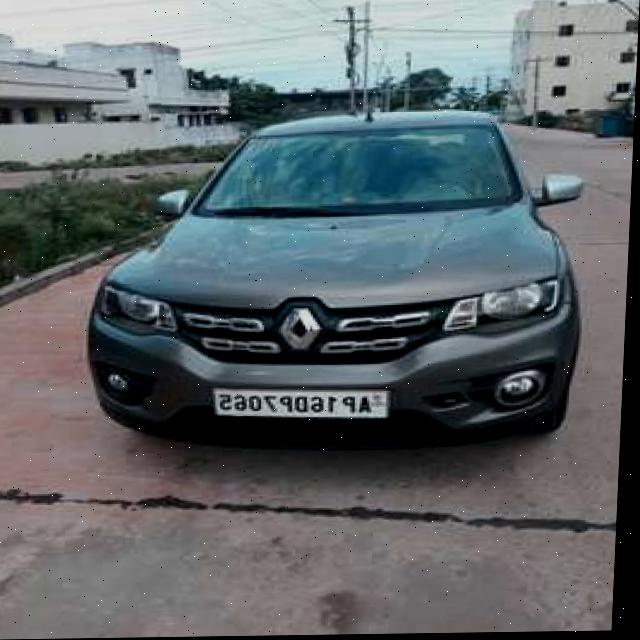plate: (216, 390, 395, 420)
